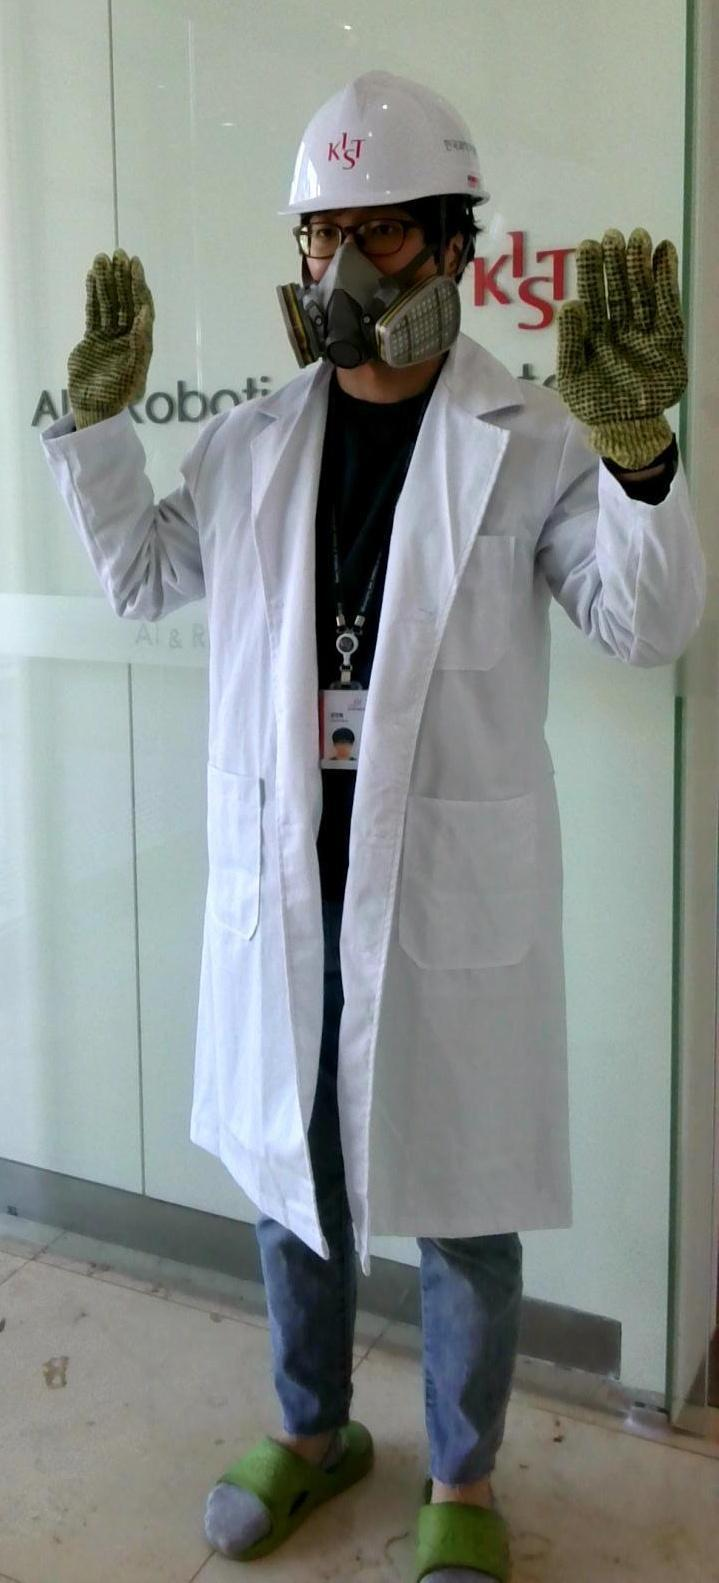lab_coat: (172, 391, 571, 1211)
